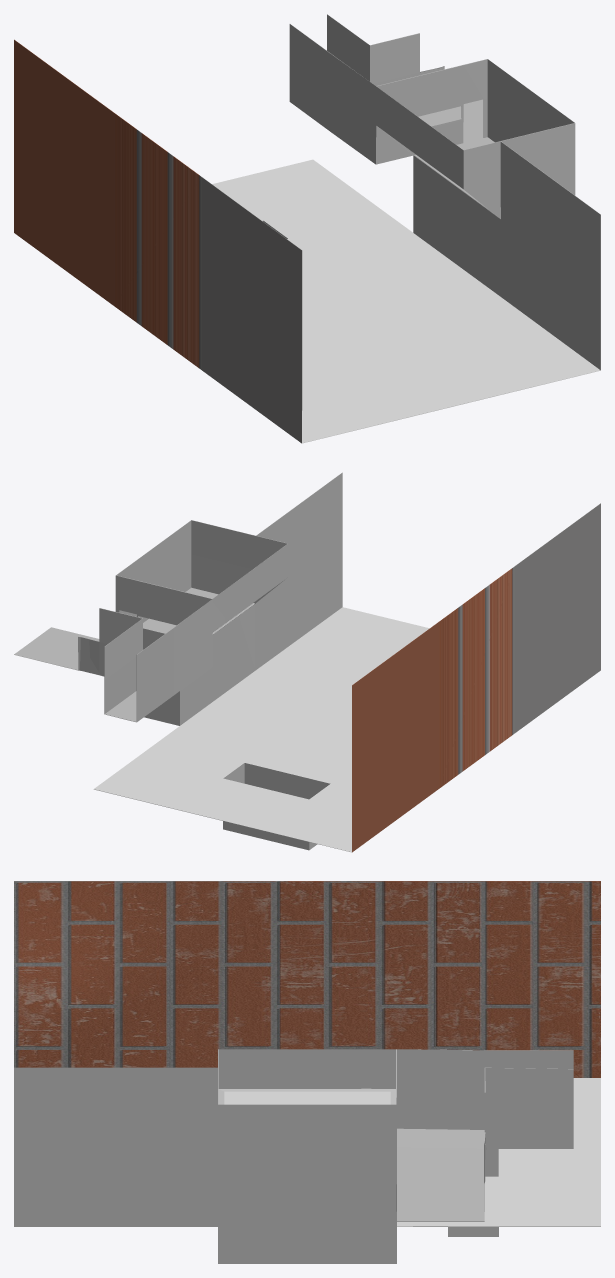
The model's file is MainRoom.fbx.
3 views of the same model, one above another, from view 1: azimuth 30°, elevation 25°; view 2: azimuth 150°, elevation 25°; view 3: azimuth 270°, elevation 25° (orthographic). The views are drawn at different scales.
Visible parts, largest first — view 1: Cube; view 2: Cube; view 3: Cube.
Boxes of the visible parts, left/top/right/bottom form: Cube: left=14, top=14, right=600, bottom=443; Cube: left=14, top=472, right=600, bottom=852; Cube: left=14, top=881, right=600, bottom=1263.
Size of the model in its own units: 1202 by 645 by 1337.
Materials: 3 (1 with a texture image).
